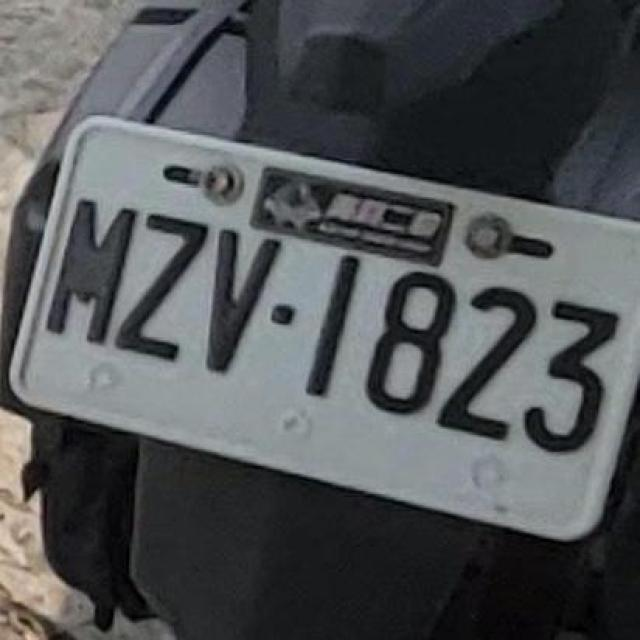W: (4, 116, 640, 546)
